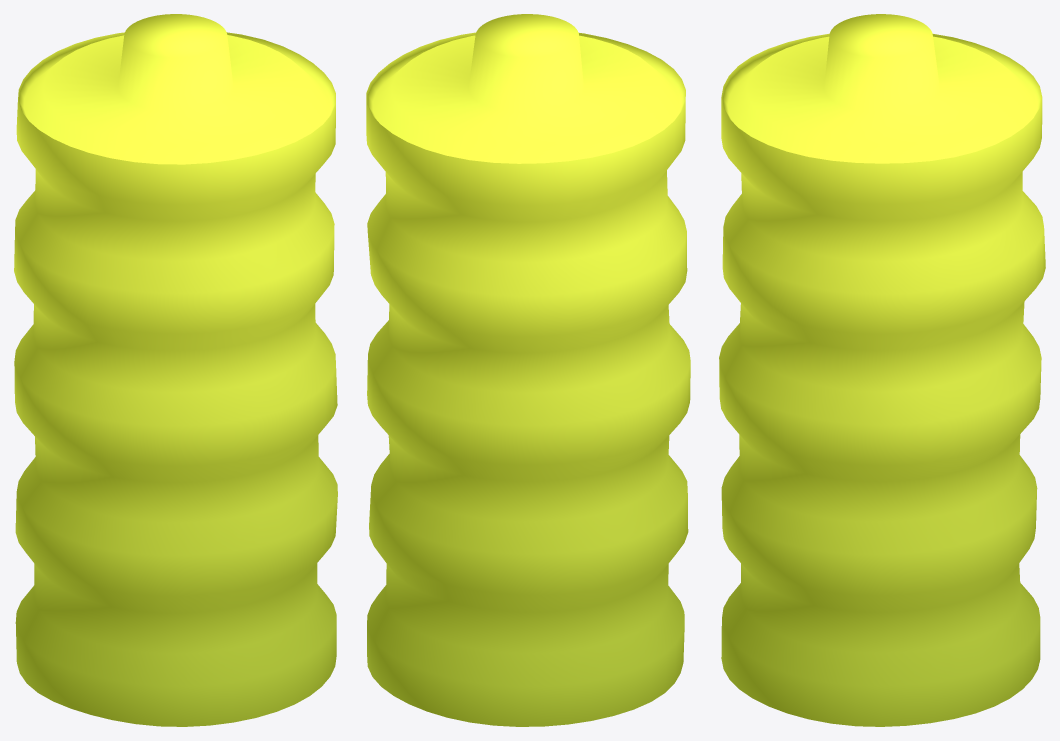
Rendered from battery.glb.
3 renders of one model, left to right at view 1: azimuth 30°, elevation 25°; view 2: azimuth 150°, elevation 25°; view 3: azimuth 270°, elevation 25°, orthographic.
Visible parts, largest first — view 1: battery; view 2: battery; view 3: battery.
Part boxes in pixels (<box>): battery: <box>14,14,337,726</box>; battery: <box>366,14,690,726</box>; battery: <box>719,14,1045,726</box>.
Bounding box in the file's own units: 0.0397 × 0.085 × 0.0399.
